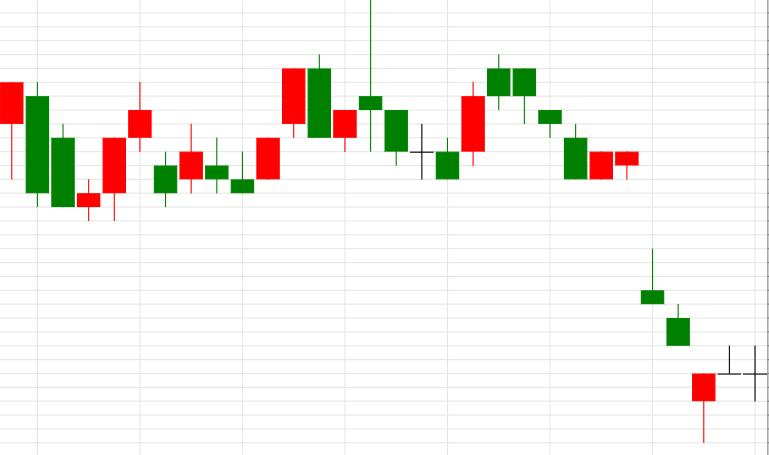hammer_rise: (487, 54, 715, 442)
